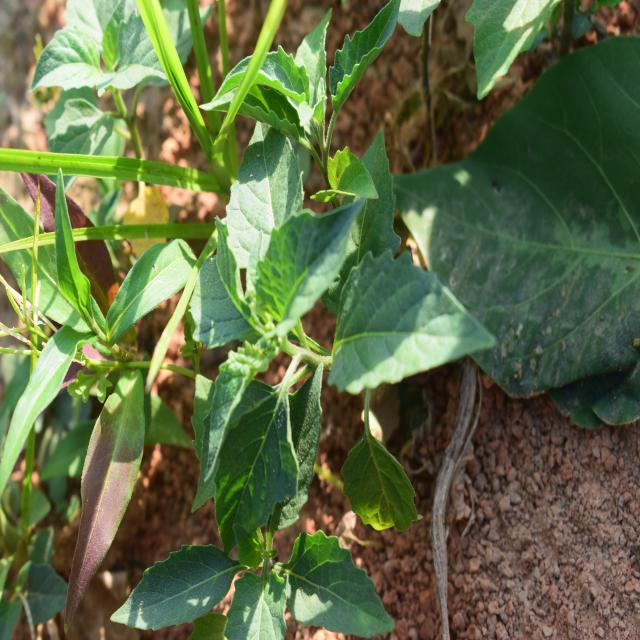Black_nightshade: (178, 155, 432, 500), (129, 472, 388, 633), (199, 19, 420, 185)
